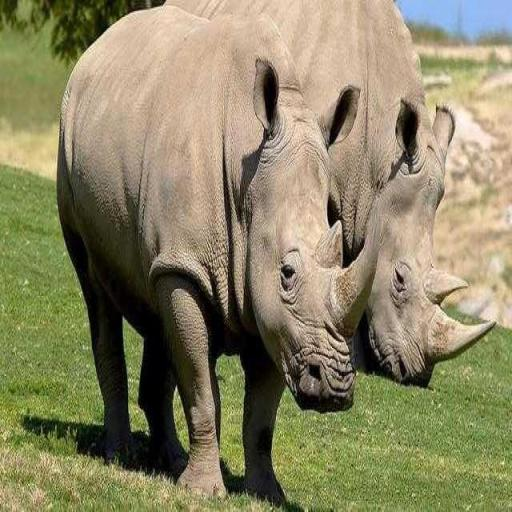Rhino: (54, 1, 384, 505), (162, 0, 496, 389)
